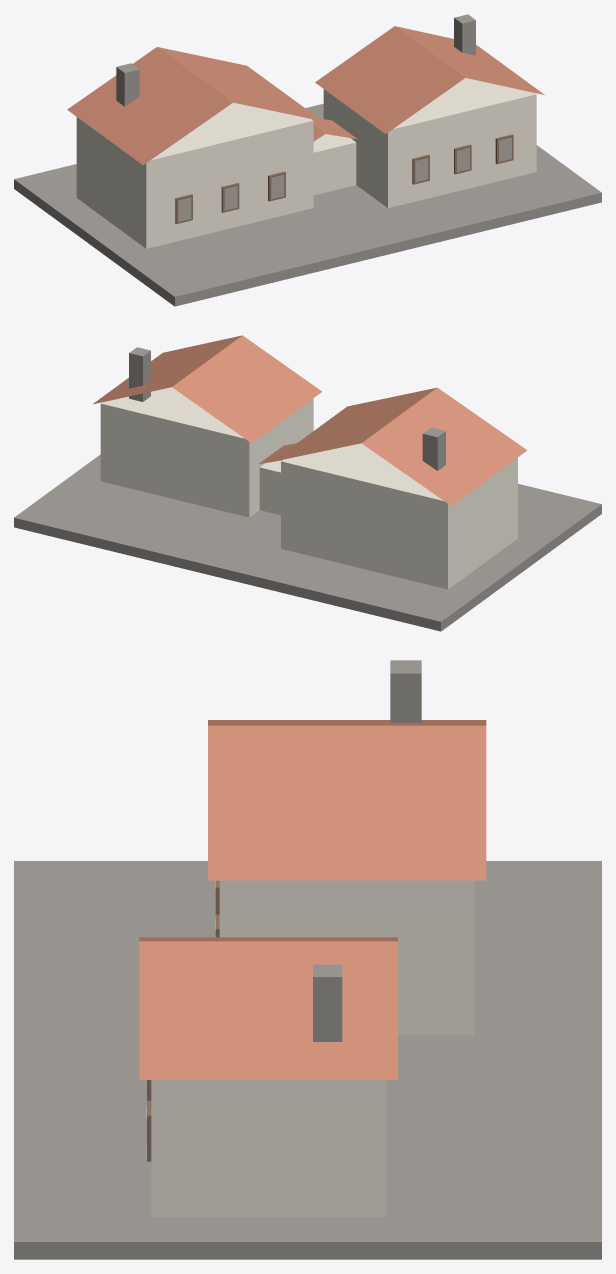
File: lm_70_nha_khach_cong_doan_villas_1936.glb
3 views of the same model, one above another, from view 1: azimuth 30°, elevation 25°; view 2: azimuth 150°, elevation 25°; view 3: azimuth 270°, elevation 25° (orthographic). The views are drawn at different scales.
Visible parts, largest first — view 1: lm_70_nha_khach_cong_doan_villas_1936; view 2: lm_70_nha_khach_cong_doan_villas_1936; view 3: lm_70_nha_khach_cong_doan_villas_1936.
Boxes of the visible parts, box(x1,y1,x2,y2) form: lm_70_nha_khach_cong_doan_villas_1936: box(14, 14, 601, 306); lm_70_nha_khach_cong_doan_villas_1936: box(14, 335, 601, 631); lm_70_nha_khach_cong_doan_villas_1936: box(14, 660, 601, 1259).
Size of the model in its own units: 46 by 14.95 by 30.
